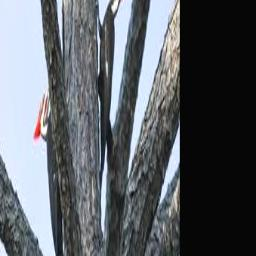Woodpecker: (33, 70, 64, 256), (95, 0, 125, 190)
